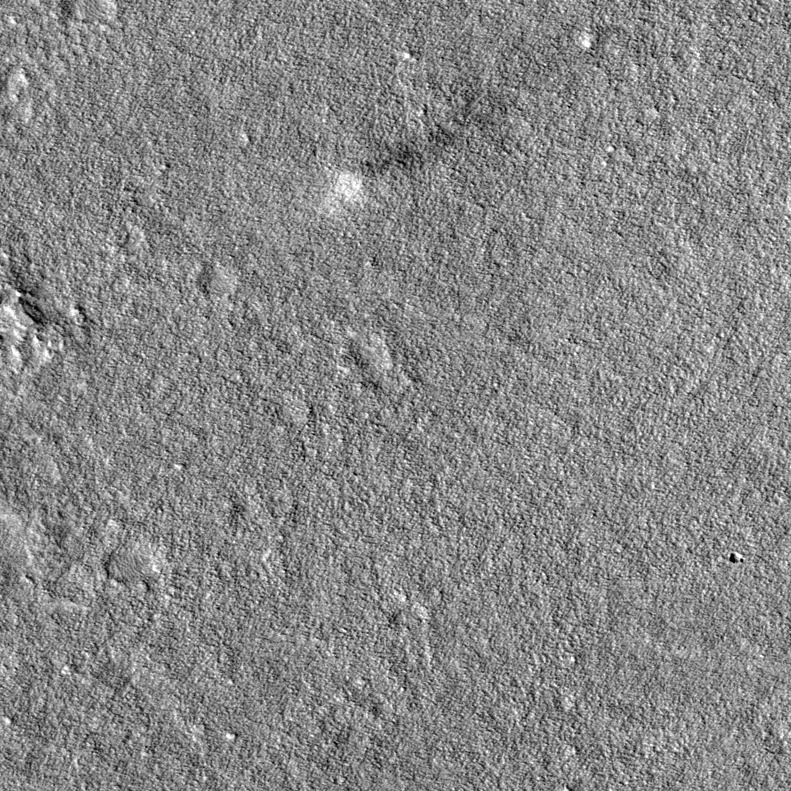dust_devil: (320, 108, 474, 218)
